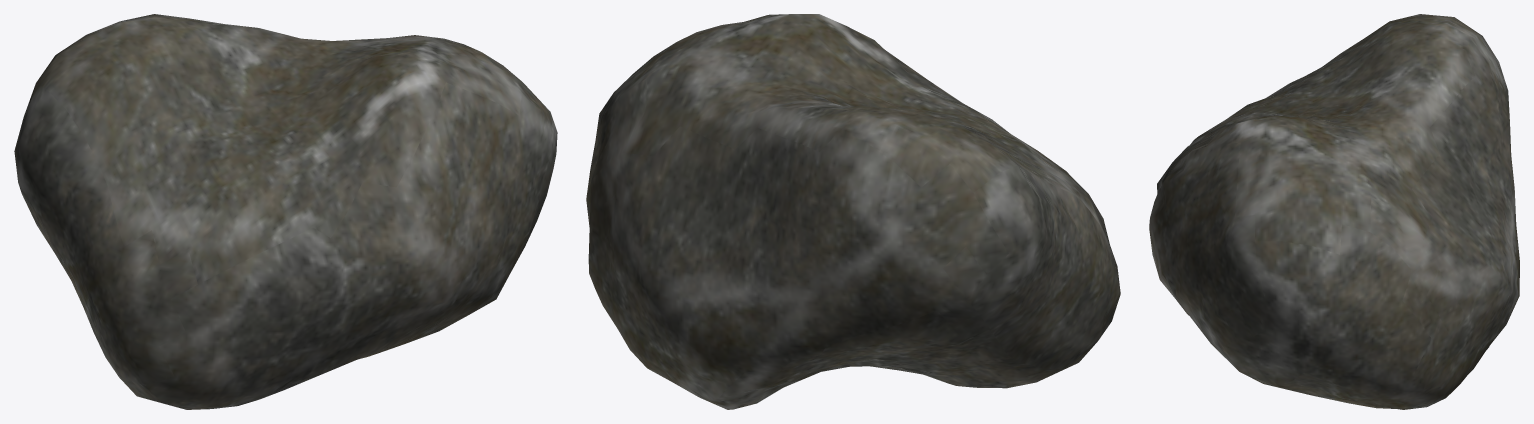
File: rock.gltf
The picture shows the model from 3 angles, left to right: view 1: azimuth 30°, elevation 25°; view 2: azimuth 150°, elevation 25°; view 3: azimuth 270°, elevation 25°; orthographic projection. The views are drawn at different scales.
Parts seen in each view (by area): view 1: rock; view 2: rock; view 3: rock.
Boxes of the visible parts, x1=… form: rock: x1=14, y1=14, x2=557, y2=409; rock: x1=586, y1=14, x2=1120, y2=409; rock: x1=1149, y1=14, x2=1519, y2=409.
Size of the model in its own units: 1.2 by 0.7943 by 0.8972.
Materials: 1 (1 with a texture image).
